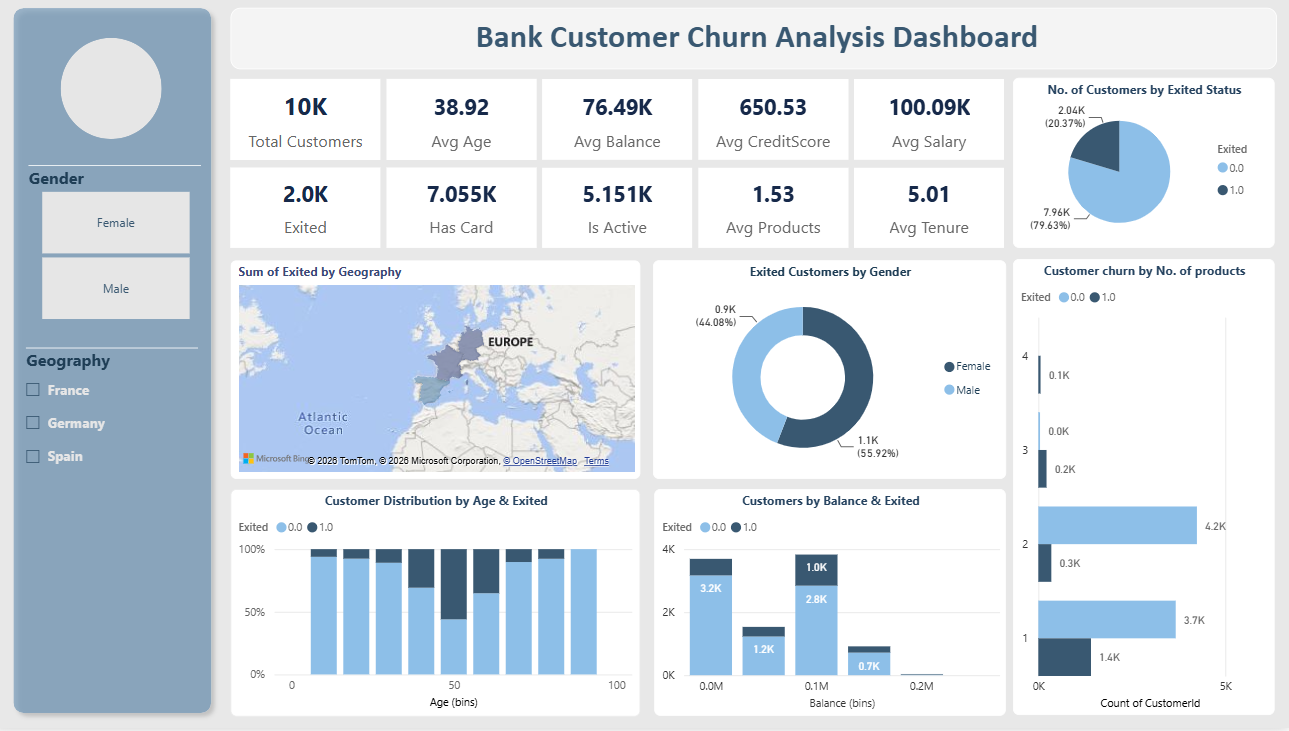

Layout of this report page (visuals, bound fields, positions):
{"tool":"powerbi","page":{"name":"Page 1","canvas":[1280,720],"ordinal":0},"visuals":[{"type":"textbox","box":[234.7,8.3,1033.3,61.1],"z":0},{"type":"shape","box":[11.7,0,213.3,714.2],"z":1000},{"type":"shape","box":[67.1,38.8,100,100],"z":2000},{"type":"cardVisual","fields":{"Data":["CountNonNull(Churn_Modelling.CustomerId)","Avg(Churn_Modelling.Age)","Avg(Churn_Modelling.Balance)","Avg(Churn_Modelling.CreditScore)","Avg(Churn_Modelling.EstimatedSalary)"]},"box":[229.9,74,777.9,90.9],"z":3000},{"type":"cardVisual","fields":{"Data":["Sum(Churn_Modelling.Exited)","Sum(Churn_Modelling.HasCrCard)","Sum(Churn_Modelling.IsActiveMember)","Avg(Churn_Modelling.NumOfProducts)","Avg(Churn_Modelling.Tenure)"]},"box":[229.9,162.3,777.9,89.6],"z":4000},{"type":"slicer","fields":{"Values":["Churn_Modelling.Gender"]},"box":[22.5,158.8,196.2,163.8],"z":5000},{"type":"slicer","fields":{"Values":["Churn_Modelling.Geography"]},"box":[20,340,195.5,380],"z":6000},{"type":"donutChart","title":"Exited Customers by Gender ","fields":{"Category":["Churn_Modelling.Gender"],"Y":["Sum(Churn_Modelling.Exited)"]},"box":[651.5,264.6,348.5,218.5],"z":7000},{"type":"hundredPercentStackedColumnChart","title":"Customer Distribution by Age & Exited","fields":{"Category":["Churn_Modelling.Age (bins)"],"Y":["CountNonNull(Churn_Modelling.CustomerId)"],"Series":["Churn_Modelling.Exited"]},"box":[234.7,495.8,405.6,212.5],"z":8000},{"type":"clusteredBarChart","title":"Customer churn by No. of products","fields":{"Category":["Churn_Modelling.NumOfProducts"],"Y":["CountNonNull(Churn_Modelling.CustomerId)"],"Series":["Churn_Modelling.Exited"]},"box":[1008.2,264.5,258.2,443.6],"z":10000},{"type":"pieChart","title":"No. of Customers by Exited Status","fields":{"Category":["Churn_Modelling.Exited"],"Y":["CountNonNull(Churn_Modelling.CustomerId)"]},"box":[1008.2,79.1,263.6,168.2],"z":11000},{"type":"columnChart","title":"Customers by Balance & Exited","fields":{"Category":["Churn_Modelling.Balance (bins)"],"Y":["CountNonNull(Churn_Modelling.CustomerId)"],"Series":["Churn_Modelling.Exited"]},"box":[652,496,348,212],"z":11001},{"type":"filledMap","box":[234.7,256.9,405.6,229.2],"z":11002}]}

Visuals, with their boxes in screenshot pixels (x1, y1, x2, y2), scaled from the page's 1280x720 canvas onto the 1289x731 screenshot:
textbox: [236, 8, 1277, 70]
shape: [12, 0, 227, 725]
shape: [68, 39, 168, 141]
cardVisual - CountNonNull(Churn_Modelling.CustomerId) x Avg(Churn_Modelling.Age): [232, 75, 1015, 167]
cardVisual - Sum(Churn_Modelling.Exited) x Sum(Churn_Modelling.HasCrCard): [232, 165, 1015, 256]
slicer - Churn_Modelling.Gender: [23, 161, 220, 328]
slicer - Churn_Modelling.Geography: [20, 345, 217, 730]
"Exited Customers by Gender " donutChart: [656, 269, 1007, 490]
"Customer Distribution by Age & Exited" hundredPercentStackedColumnChart: [236, 503, 645, 719]
"Customer churn by No. of products" clusteredBarChart: [1015, 269, 1275, 719]
"No. of Customers by Exited Status" pieChart: [1015, 80, 1281, 251]
"Customers by Balance & Exited" columnChart: [657, 504, 1007, 719]
filledMap: [236, 261, 645, 494]
